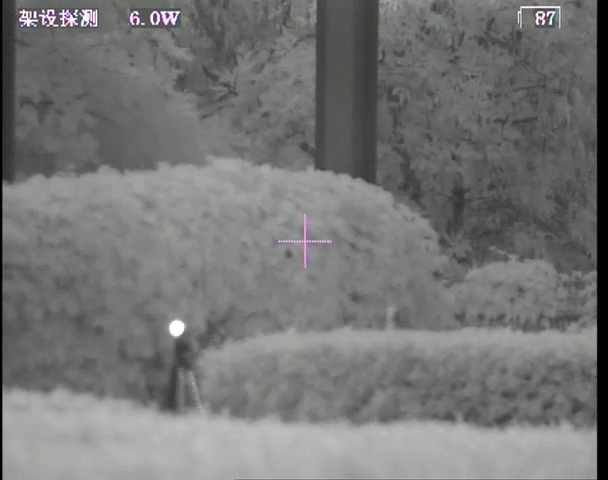my: (167, 319, 186, 337)
